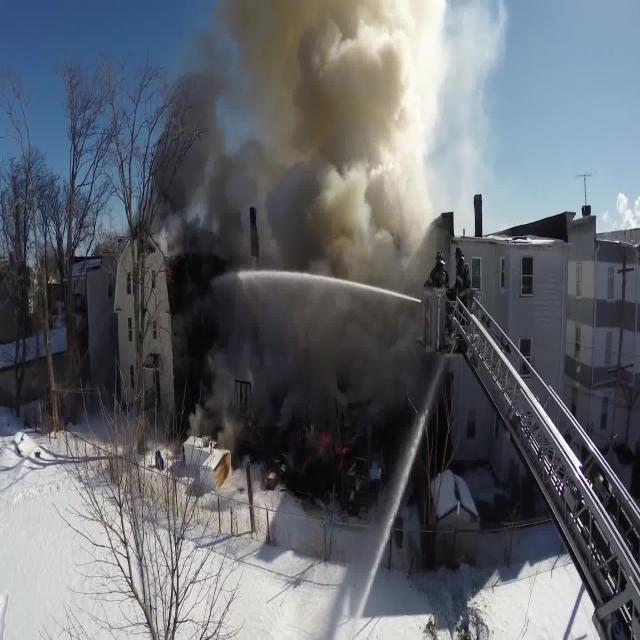smoke: (282, 10, 401, 258)
